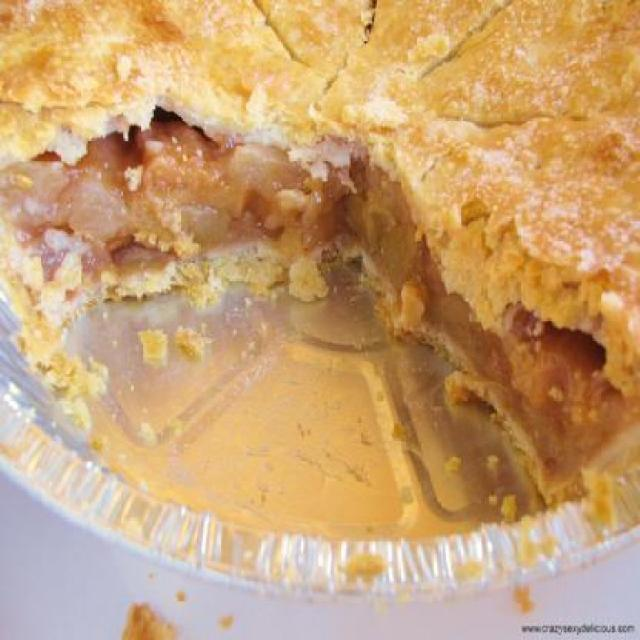Apple: (7, 5, 638, 417)
